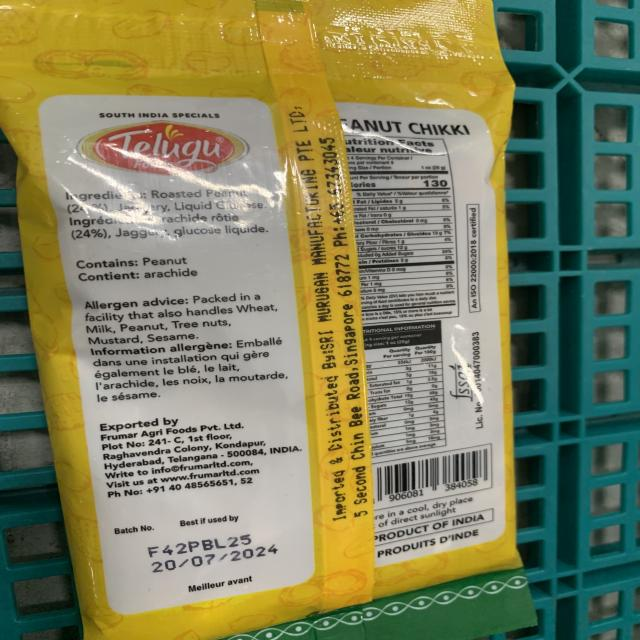object_name: (6, 0, 525, 638)
